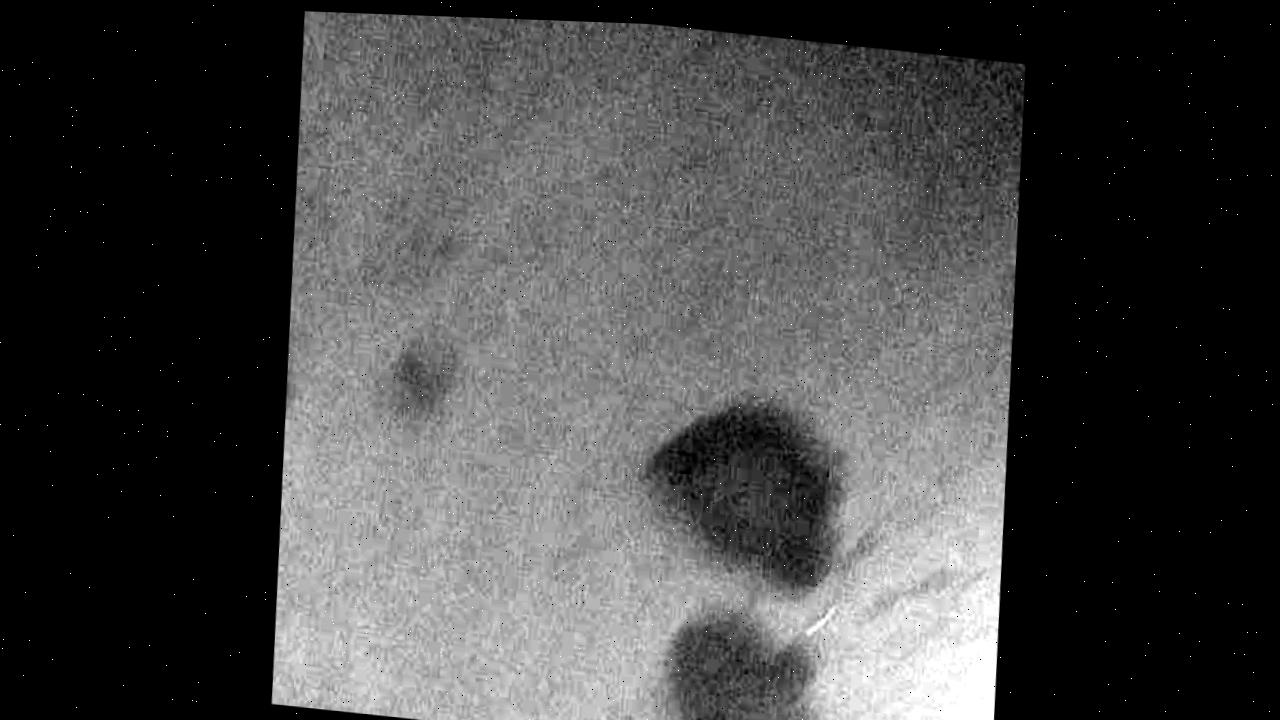drinks Stains: (597, 375, 1012, 720), (277, 299, 321, 487)
